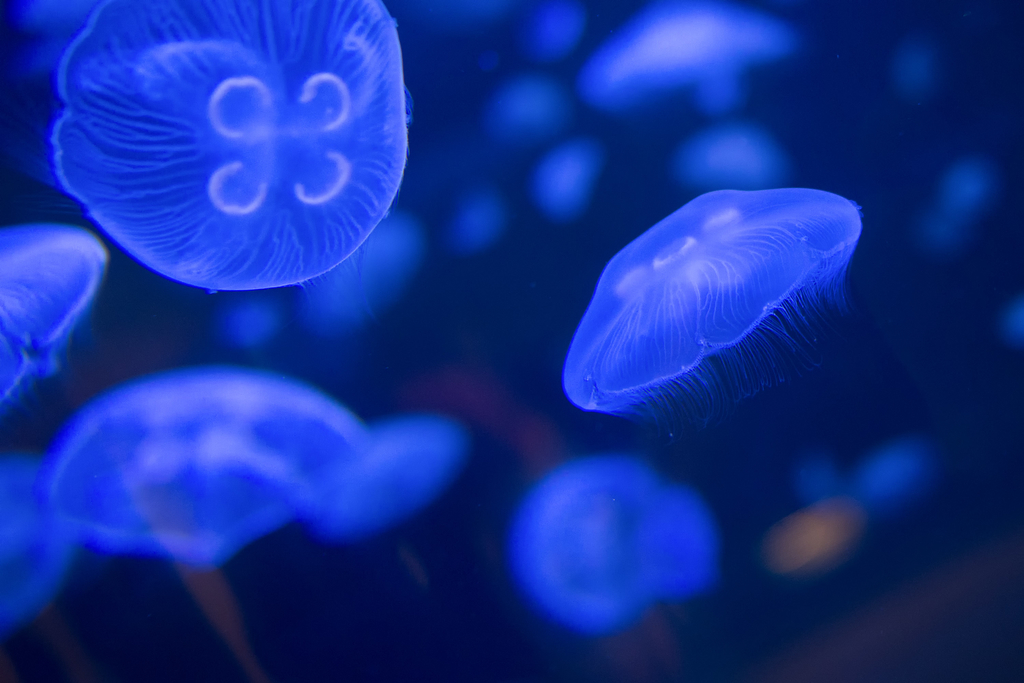Jellyfish: (0, 0, 413, 292), (558, 183, 862, 440), (42, 368, 363, 567), (508, 456, 716, 631), (581, 0, 798, 109), (300, 415, 468, 547), (0, 222, 110, 411)
